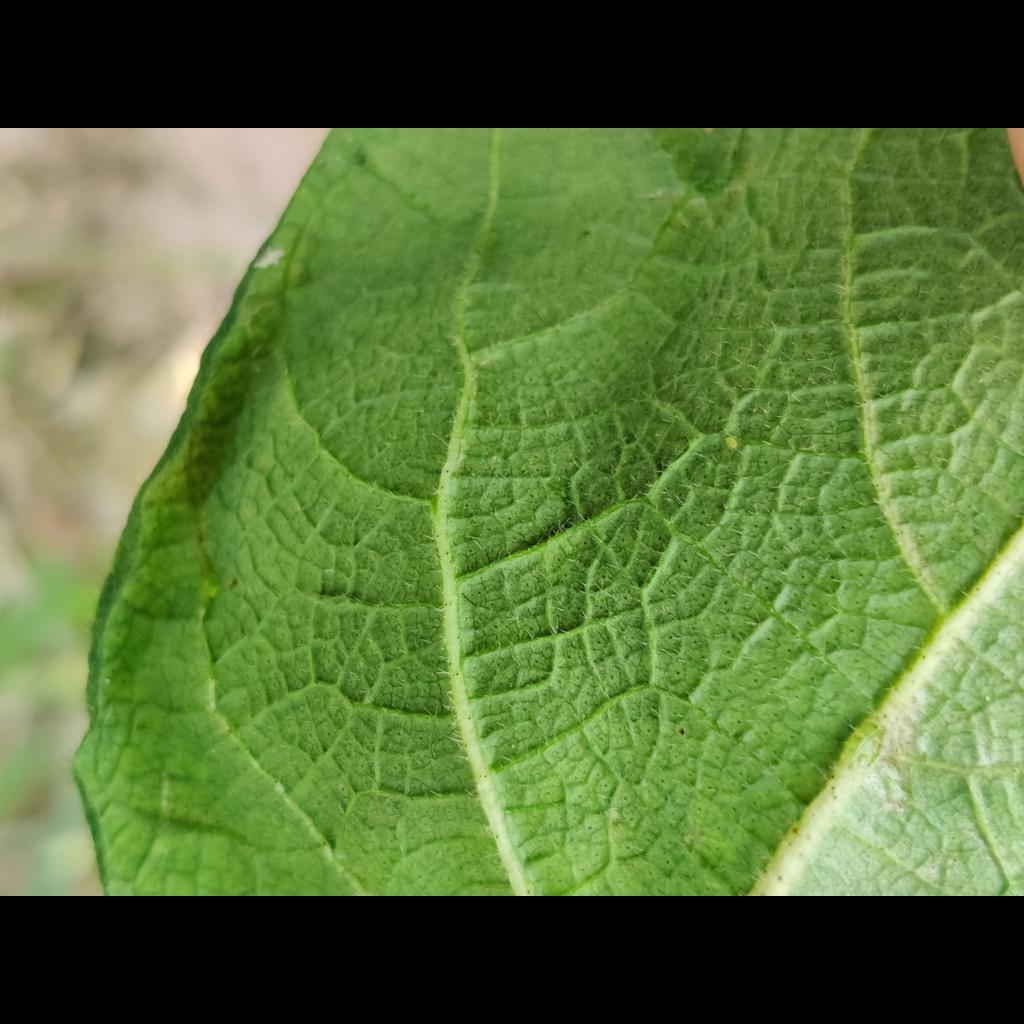adult: (254, 248, 286, 269)
nymph: (321, 844, 333, 861), (605, 809, 619, 820), (274, 782, 285, 794)
